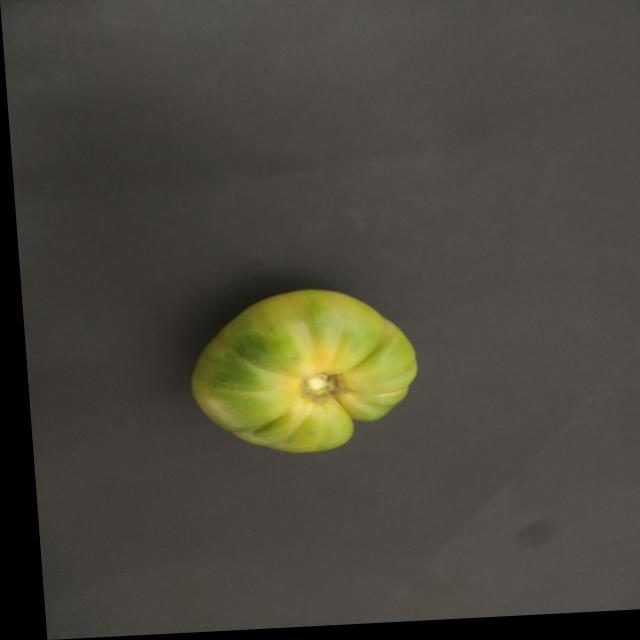yesil: (163, 282, 441, 467)
